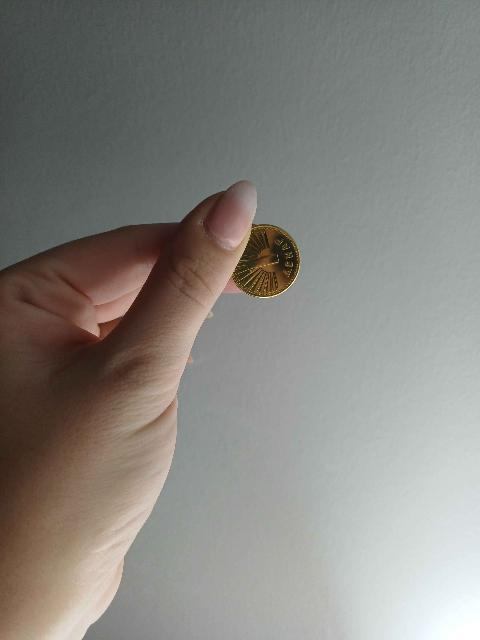1_coin: (232, 225, 299, 297)
